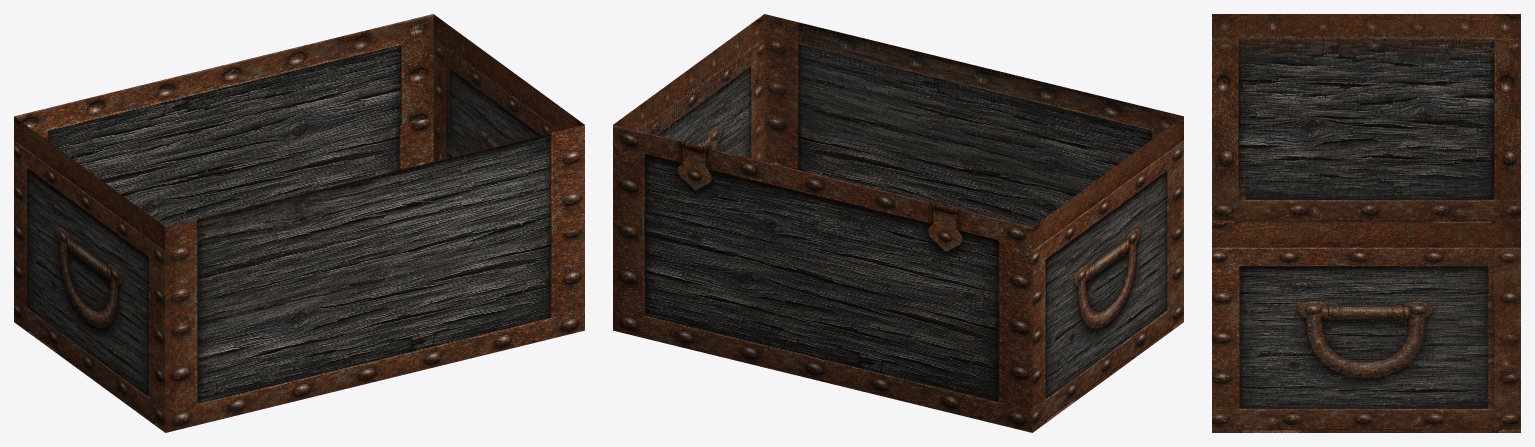
File: mm9_deco_chestrusty01.glb
The picture shows the model from 3 angles, left to right: view 1: azimuth 30°, elevation 25°; view 2: azimuth 150°, elevation 25°; view 3: azimuth 270°, elevation 25°; orthographic projection. The views are drawn at different scales.
Visible parts, largest first — view 1: Chestrusty01; view 2: Chestrusty01; view 3: Chestrusty01.
Part boxes in pixels (box(x1,y1,x2,y2)): Chestrusty01: box(14, 14, 584, 432); Chestrusty01: box(613, 14, 1183, 432); Chestrusty01: box(1212, 14, 1520, 432).
Size of the model in its own units: 1 by 0.4704 by 0.6267.
1 material, 1 textured.
